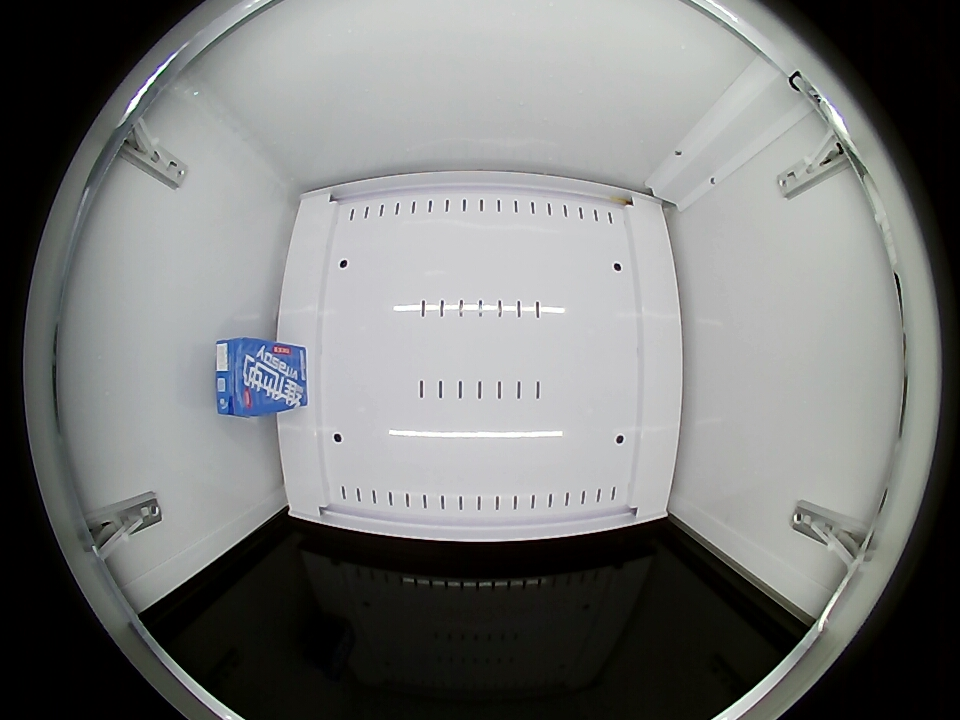weitanai: (216, 337, 270, 418)
